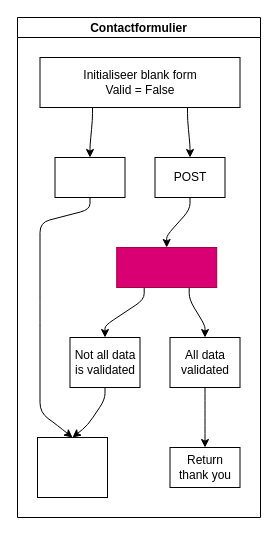
Image size: 278x535. Some labels were removed from this diagram. The shapes that lost their labels are listed below. From the top down, each one's centre as x and y in pixels, then its label:
the point at 89,177: GET
the point at 166,267: Validate data
the point at 72,467: Send form
